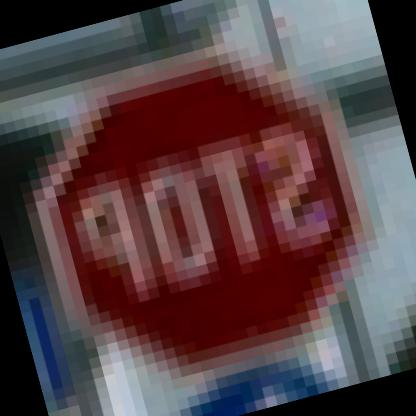stop: (1, 7, 402, 403)
